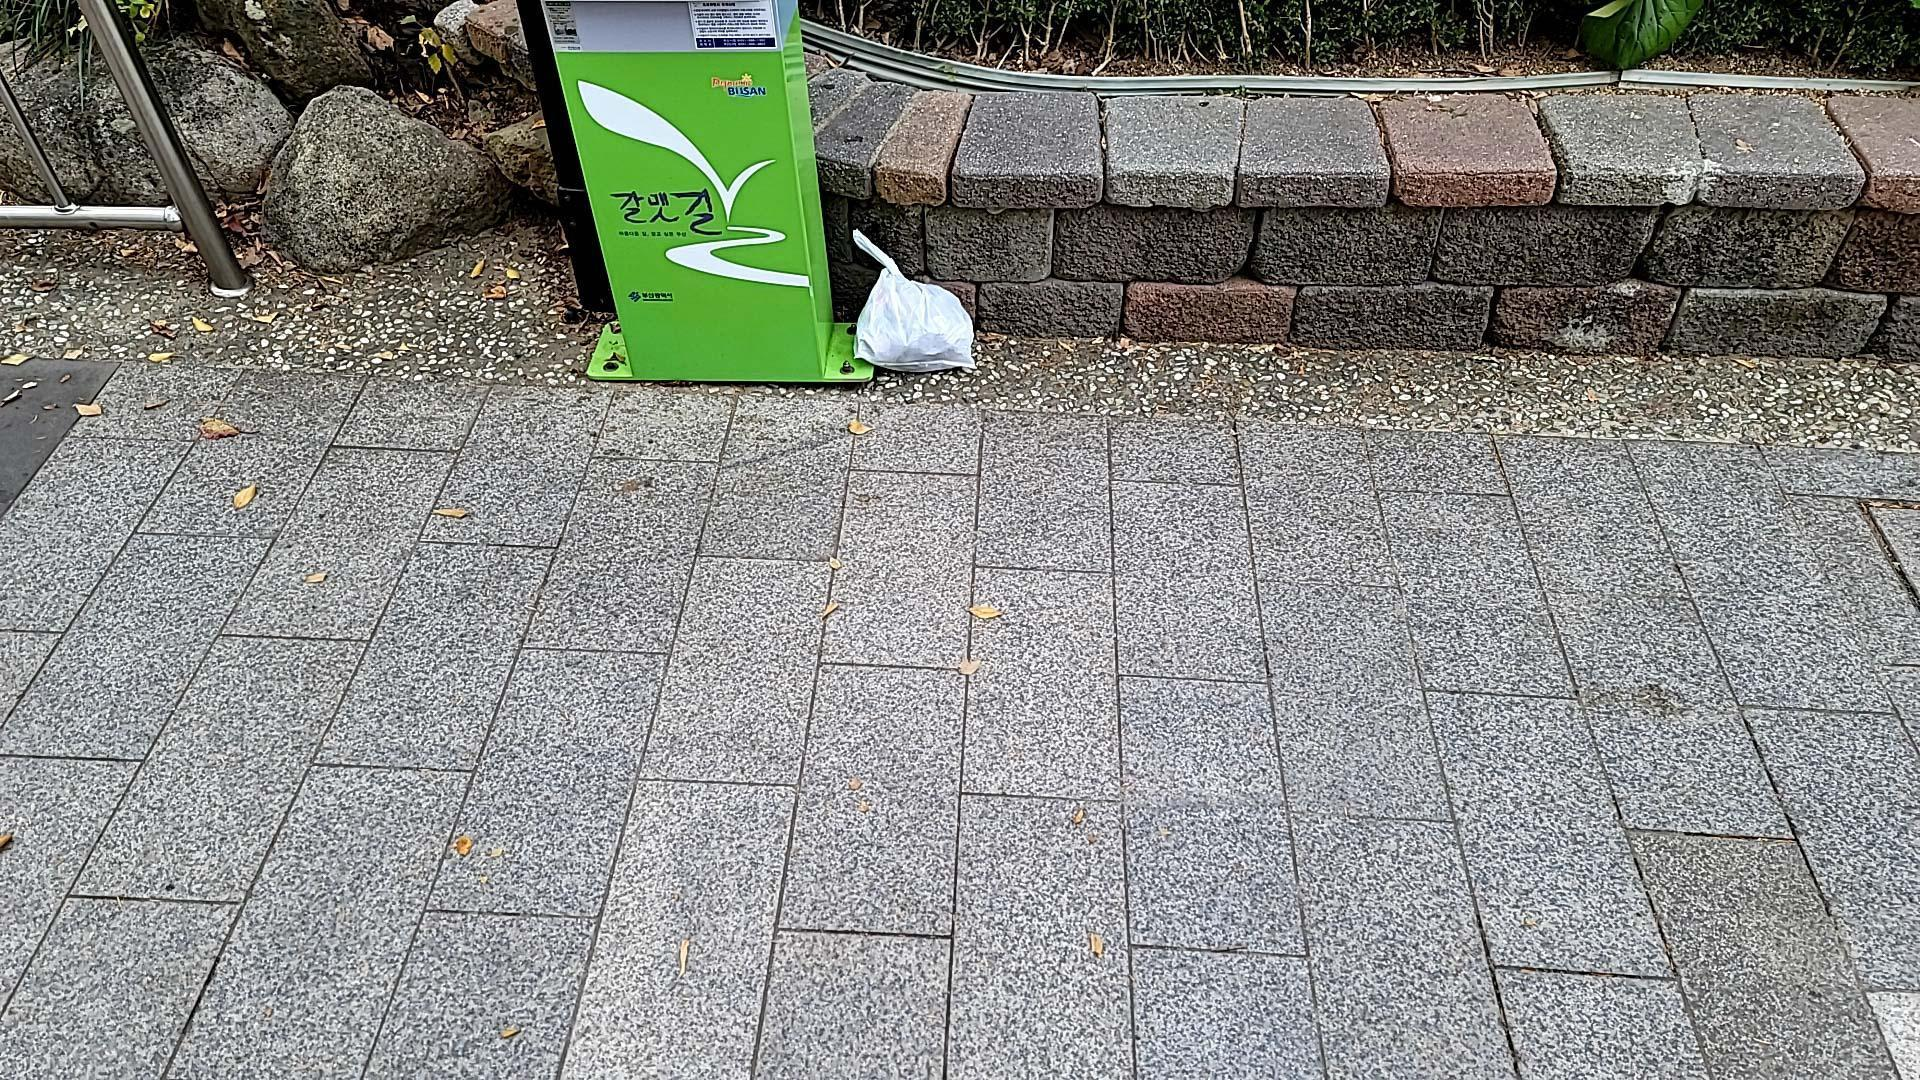white_bag: (836, 222, 997, 389)
